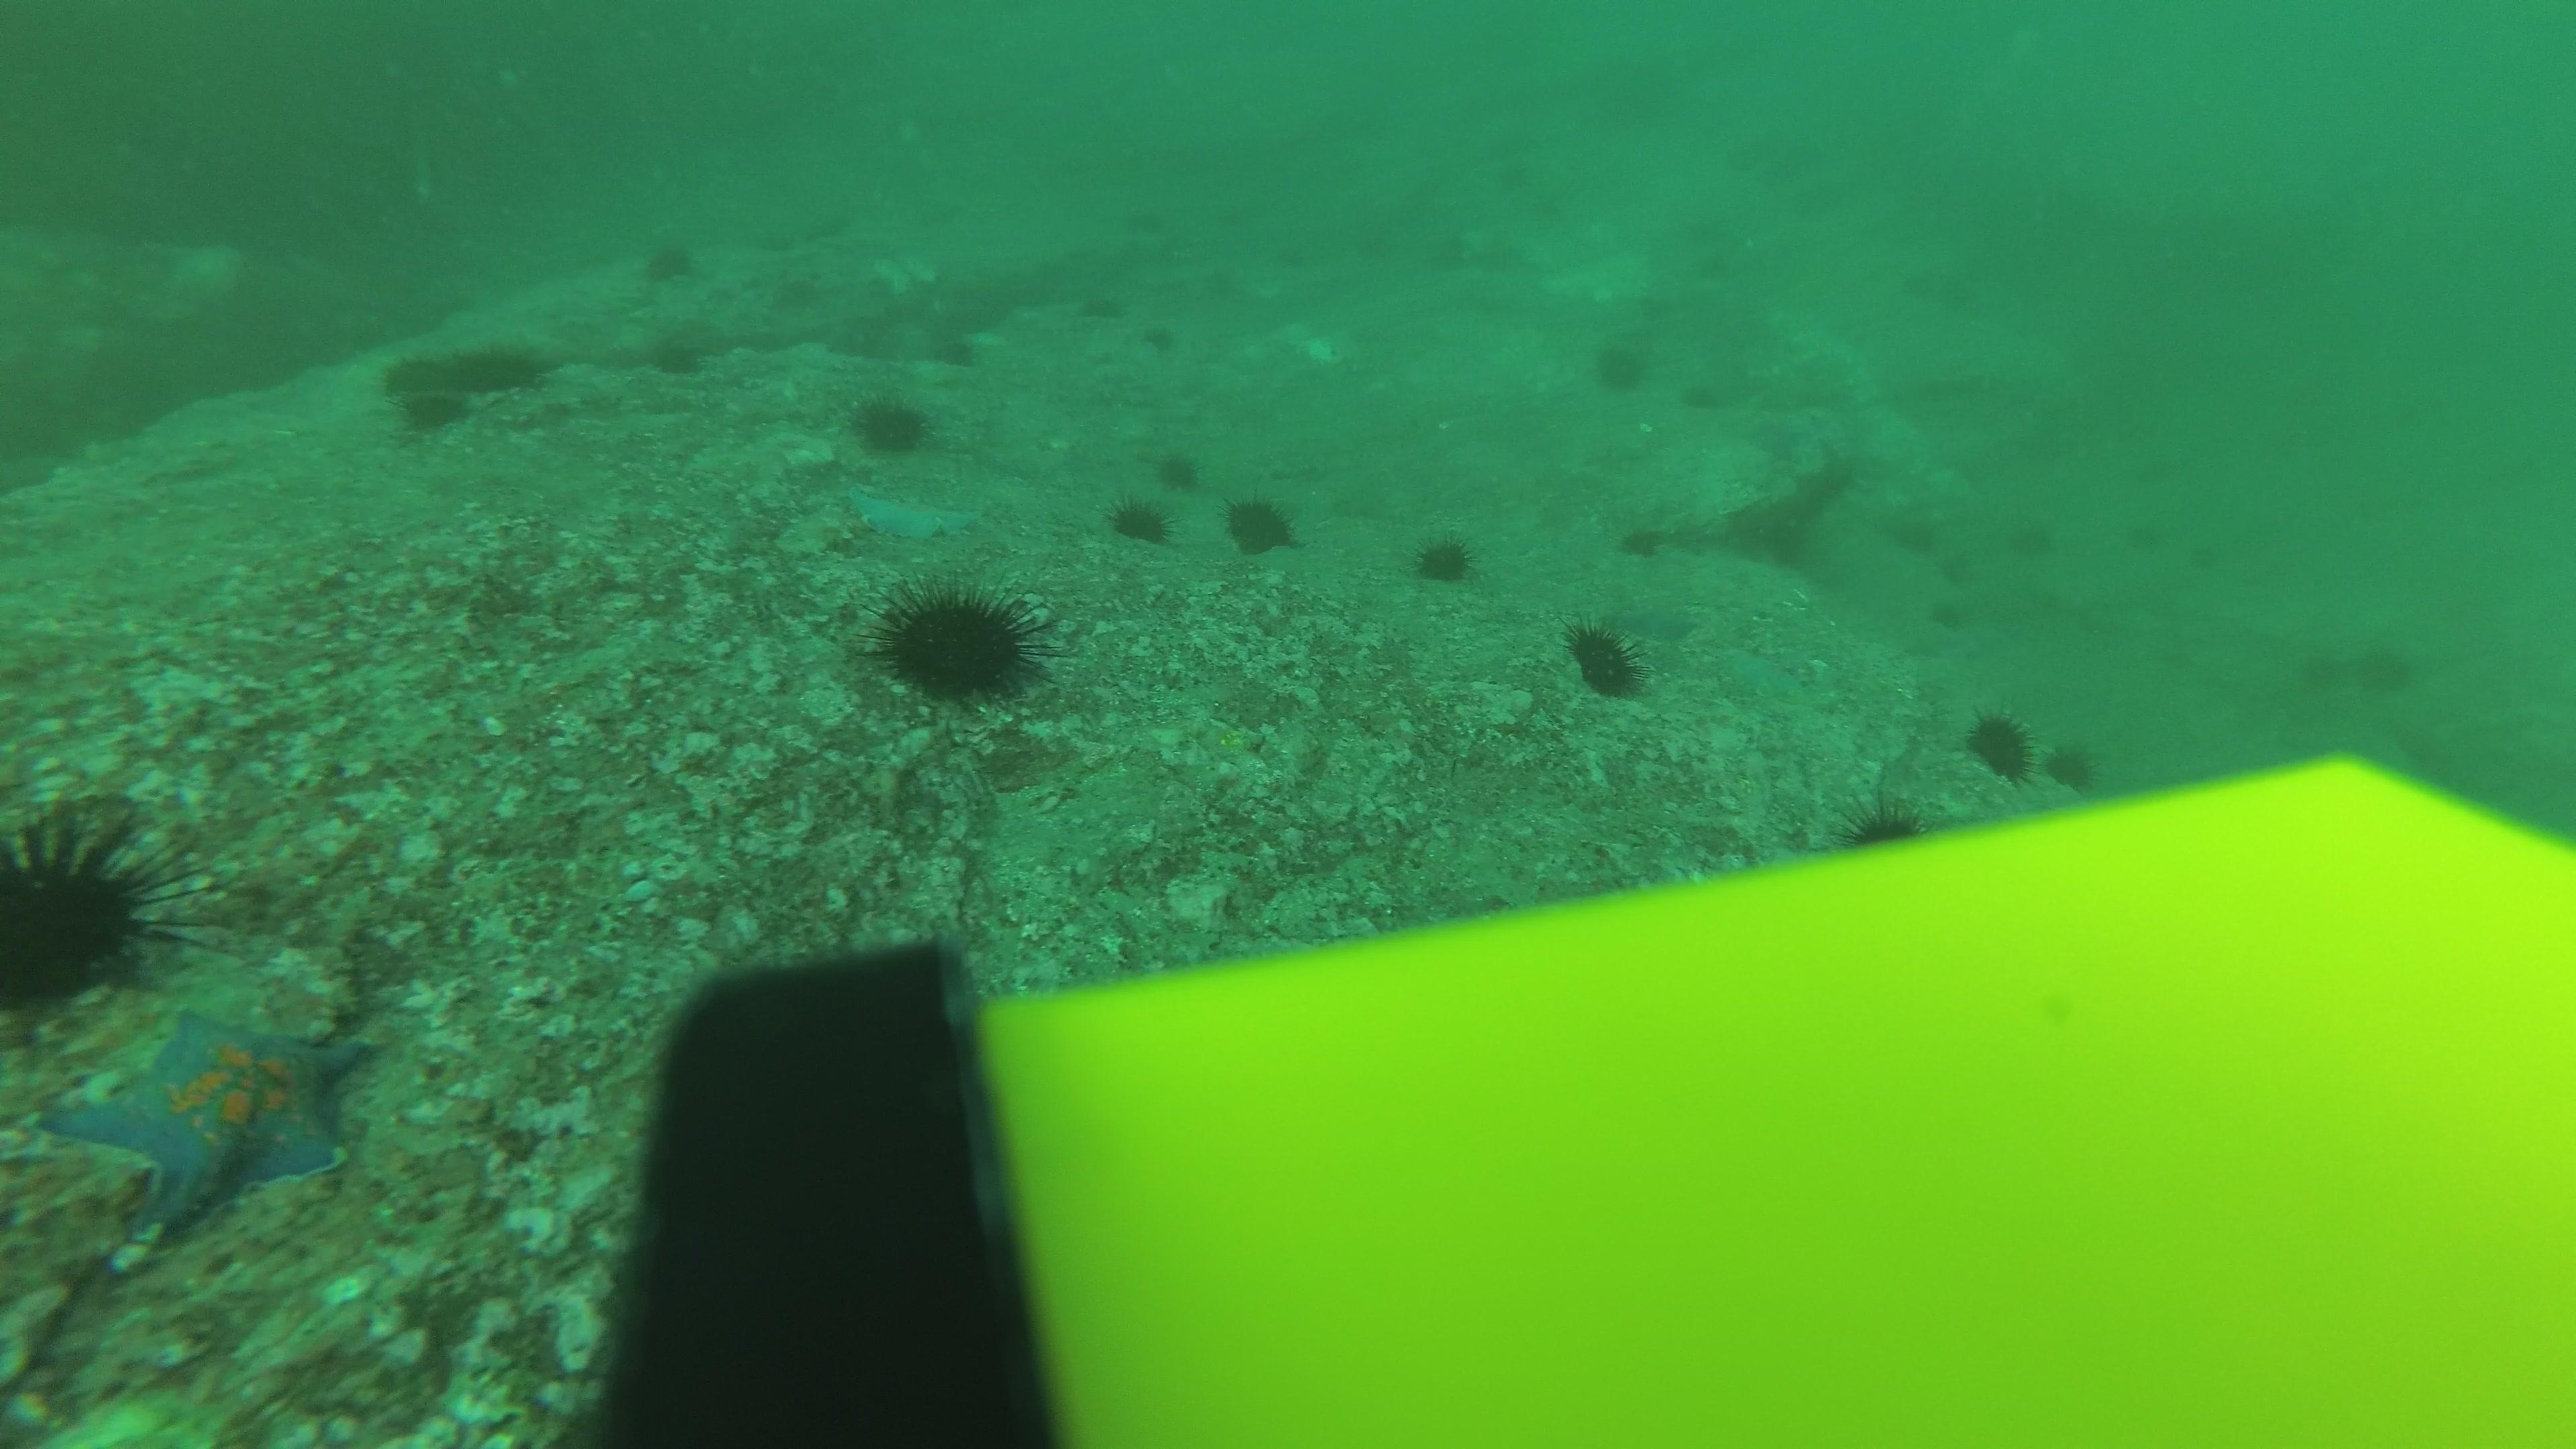echinus: (4, 796, 200, 1017), (874, 580, 1044, 704), (1564, 617, 1647, 699), (849, 387, 932, 456), (1966, 711, 2038, 789), (1224, 488, 1297, 556), (1845, 794, 1928, 851), (455, 338, 536, 395), (379, 345, 458, 402), (1410, 527, 1477, 586), (1591, 333, 1652, 395), (2353, 637, 2419, 694), (1108, 494, 1171, 548), (403, 389, 469, 441), (2043, 736, 2100, 794), (648, 327, 709, 377), (640, 234, 697, 285), (1150, 446, 1200, 502), (1718, 131, 1771, 175), (1750, 147, 1803, 191), (1794, 175, 1847, 219), (2008, 522, 2061, 566), (1888, 511, 1941, 556), (1937, 552, 1990, 596), (1612, 524, 1665, 568), (2167, 536, 2220, 580), (2128, 453, 2181, 497), (2121, 517, 2173, 561), (1684, 249, 1736, 294), (2309, 649, 2362, 692), (1923, 598, 1974, 640), (1672, 221, 1723, 264), (1077, 290, 1125, 329), (1123, 322, 1171, 361), (1196, 267, 1244, 306), (1484, 157, 1532, 196), (1346, 228, 1394, 267), (1116, 202, 1162, 241), (1203, 198, 1249, 237), (1490, 129, 1536, 168), (1523, 184, 1571, 221), (1431, 232, 1479, 269), (1681, 384, 1729, 421), (1265, 237, 1311, 274)
starfish: (42, 1003, 380, 1233), (842, 481, 975, 545), (1707, 642, 1810, 706), (1605, 594, 1698, 644)
